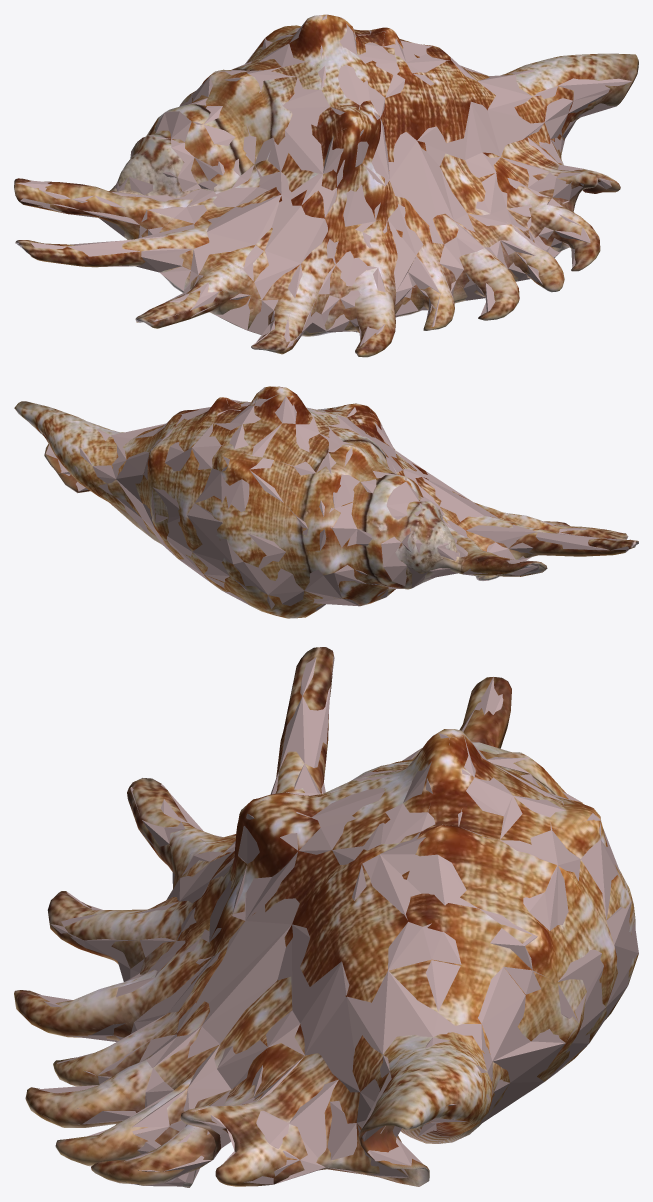
Rendered from lambis_shell.glb.
The picture shows the model from 3 angles, top to bottom: view 1: azimuth 30°, elevation 25°; view 2: azimuth 150°, elevation 25°; view 3: azimuth 270°, elevation 25°; orthographic projection. The views are drawn at different scales.
Parts seen in each view (by area): view 1: lod0, shadow; view 2: lod0, shadow; view 3: lod0, shadow.
Part boxes in pixels (x1,y1,x2,y2): lod0: (14, 14, 638, 357); shadow: (16, 14, 631, 348); lod0: (14, 386, 638, 618); shadow: (33, 386, 636, 611); lod0: (14, 647, 638, 1187); shadow: (36, 655, 638, 1186).
Size of what is drawn, in the model's own units: 0.1395 by 0.0465 by 0.0744.
Materials: 1 (1 with a texture image).
